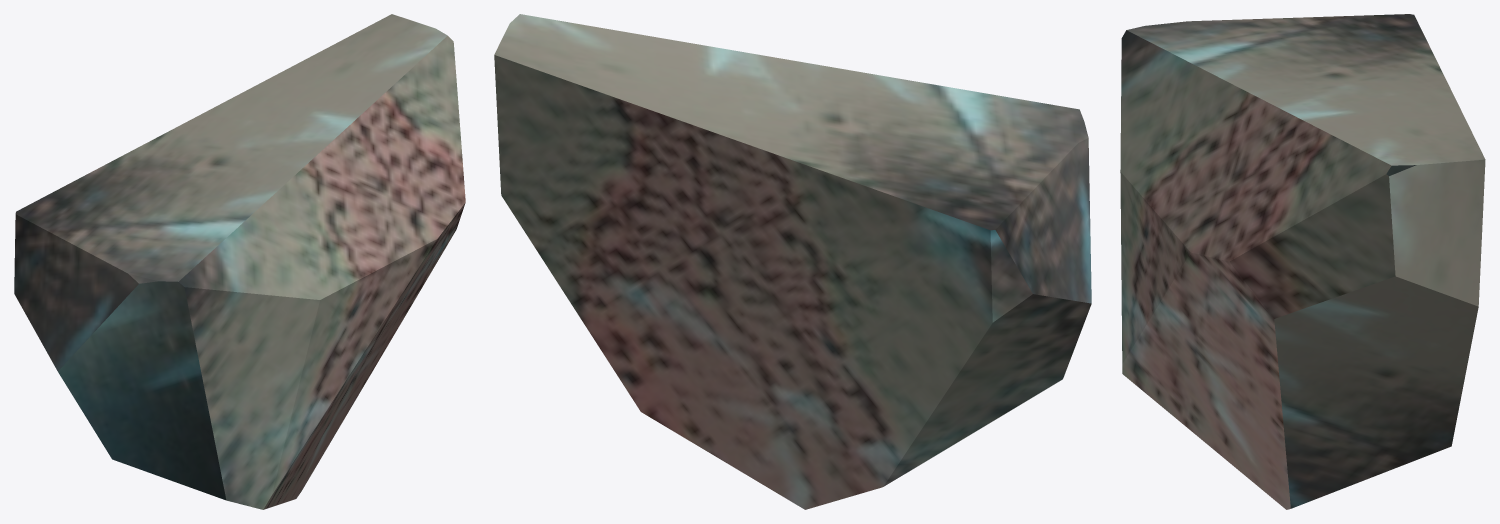
The model's file is ptr12.glb.
The picture shows the model from 3 angles, left to right: view 1: azimuth 30°, elevation 25°; view 2: azimuth 150°, elevation 25°; view 3: azimuth 270°, elevation 25°; orthographic projection. The views are drawn at different scales.
Visible parts, largest first — view 1: polySurface942; view 2: polySurface942; view 3: polySurface942.
Boxes of the visible parts, left/top/right/bottom form: polySurface942: left=14, top=14, right=465, bottom=509; polySurface942: left=494, top=14, right=1091, bottom=509; polySurface942: left=1120, top=14, right=1485, bottom=509.
Bounding box in the file's own units: 0.1874 × 0.1525 × 0.1101.
1 material, 1 textured.
